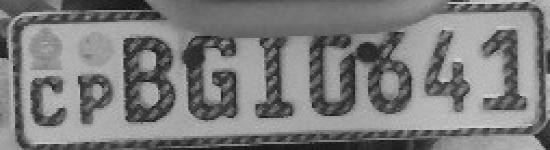0: (304, 25, 362, 121)
1: (476, 19, 531, 119)
4: (417, 24, 475, 118)
6: (363, 26, 418, 120)
B: (119, 31, 179, 131)
C: (28, 74, 75, 134)
G: (182, 31, 242, 125)
I: (249, 29, 298, 125)
P: (77, 68, 117, 132)
